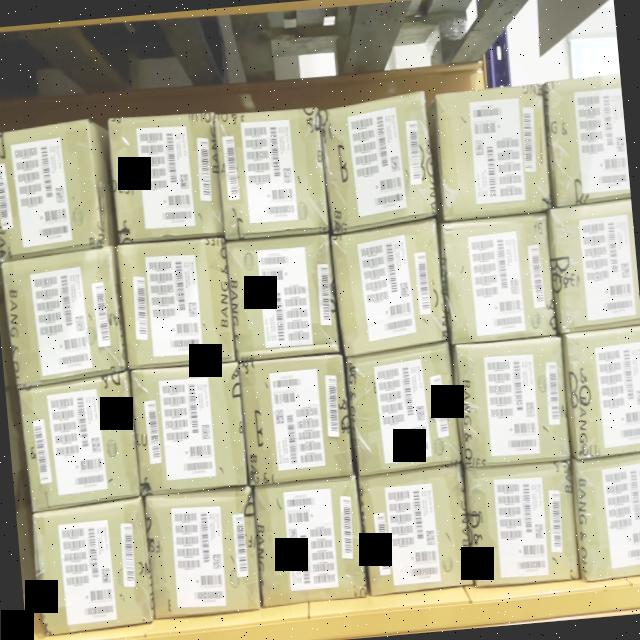box: (434, 86, 551, 218), (118, 239, 234, 369), (131, 364, 247, 492), (216, 108, 328, 238), (20, 383, 140, 504), (36, 504, 150, 630), (7, 255, 121, 380), (110, 114, 223, 240), (458, 339, 570, 465), (468, 461, 580, 587), (146, 490, 258, 616), (322, 100, 433, 227), (358, 469, 472, 592), (240, 356, 352, 480), (332, 228, 447, 348), (226, 233, 338, 356), (254, 480, 366, 601), (443, 218, 554, 338), (0, 125, 99, 257), (351, 350, 458, 472)
